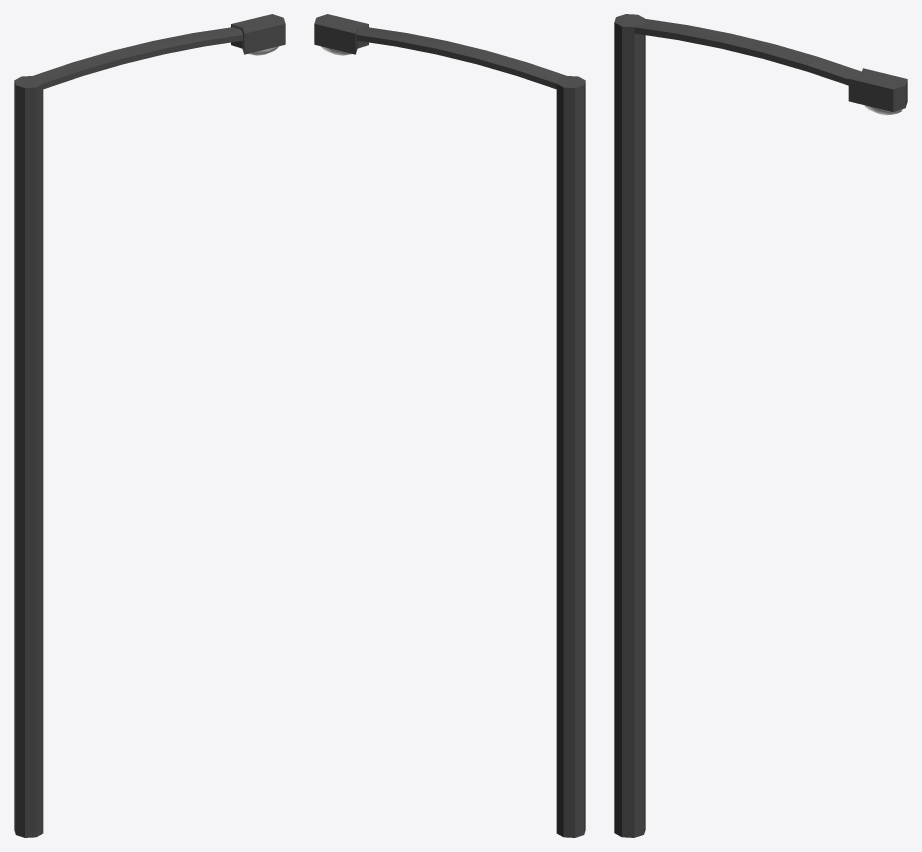
Rendered from StreetLamp.obj.
The picture shows the model from 3 angles, left to right: view 1: azimuth 30°, elevation 25°; view 2: azimuth 150°, elevation 25°; view 3: azimuth 330°, elevation 25°; orthographic projection. The views are drawn at different scales.
Parts seen in each view (by area): view 1: Cylinder; view 2: Cylinder; view 3: Cylinder.
Boxes of the visible parts, <box> form: Cylinder: <box>14,14,285,837</box>; Cylinder: <box>314,14,585,837</box>; Cylinder: <box>614,14,907,837</box>.
Bounding box in the file's own units: 0.7477 × 2.02 × 0.0725.
